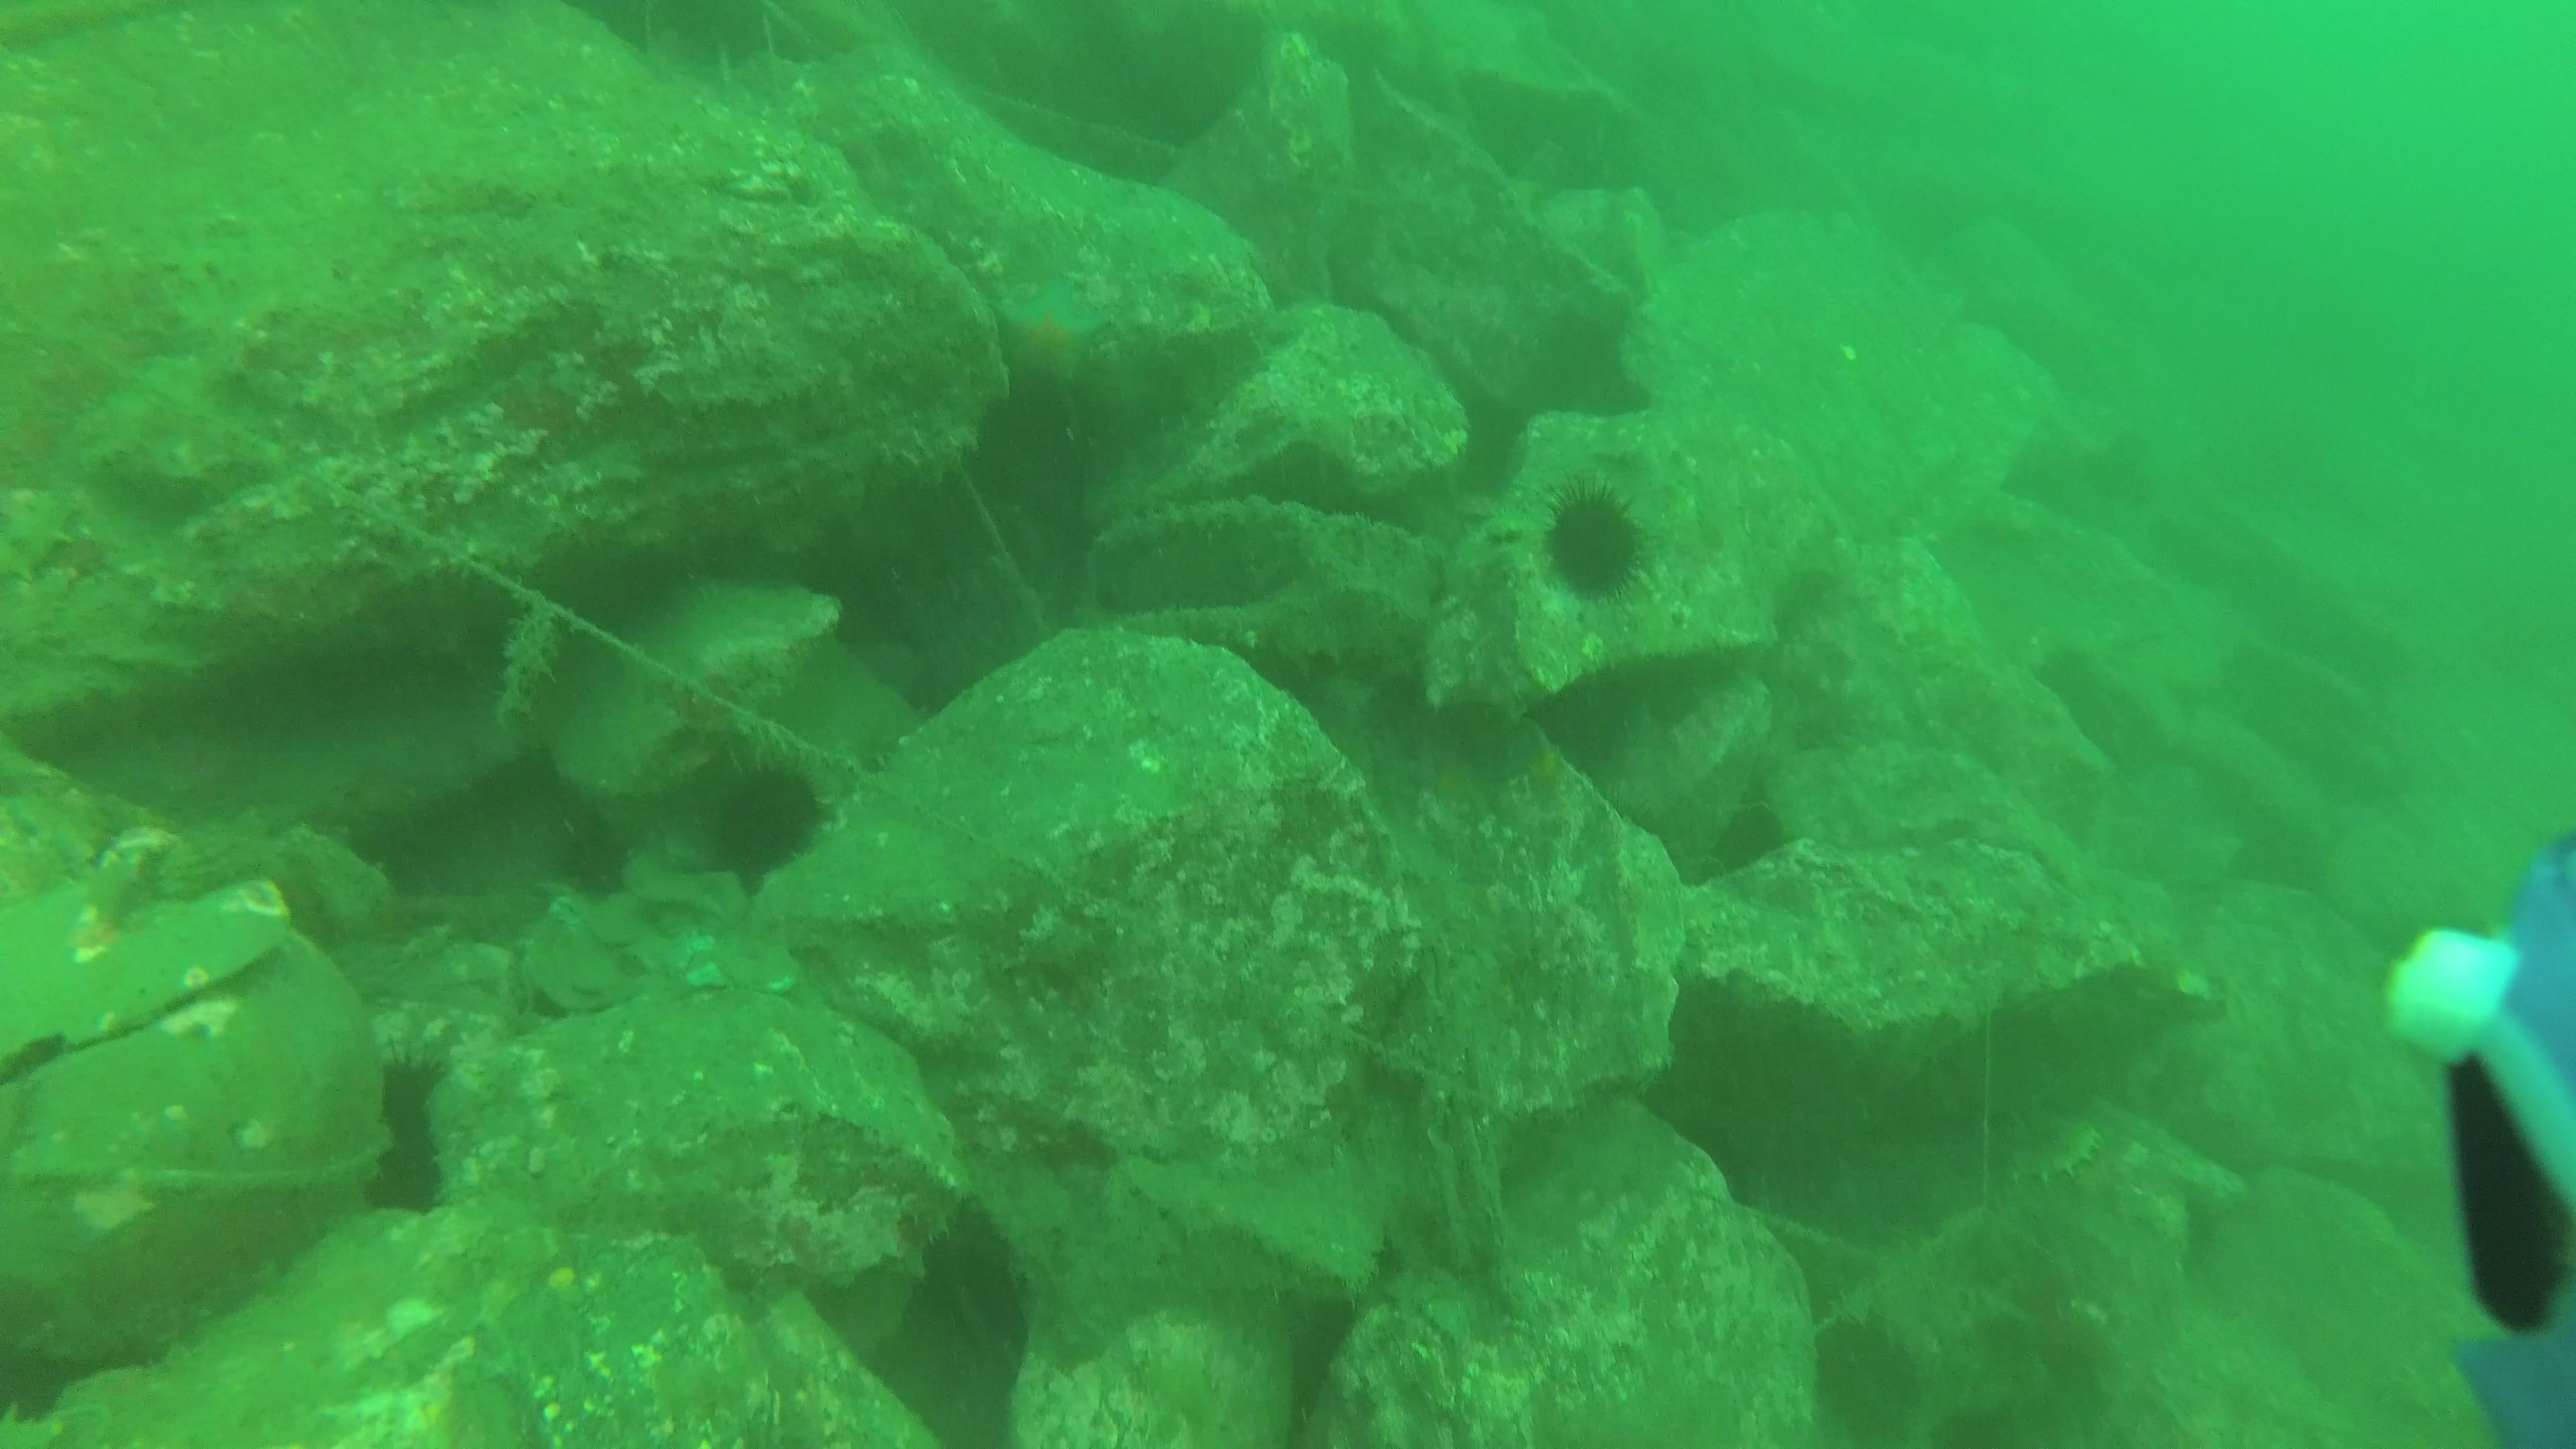echinus: (1536, 483, 1656, 610), (702, 761, 828, 879)
starfish: (982, 267, 1113, 416)
